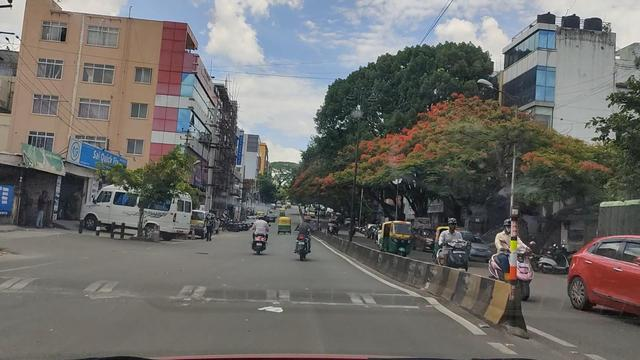SpeedBump: (5, 287, 449, 315)
